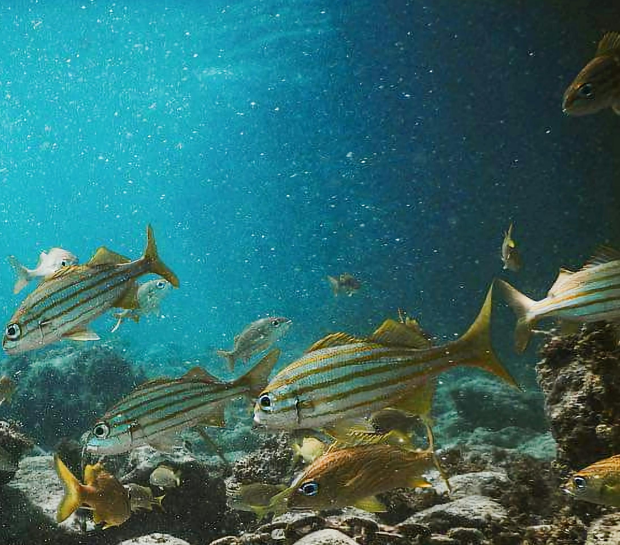fishSmall: (253, 278, 523, 447), (2, 221, 179, 356), (82, 347, 282, 456), (285, 422, 451, 514), (496, 244, 620, 354), (53, 453, 131, 530), (219, 315, 293, 372), (7, 245, 78, 296), (559, 61, 620, 120), (109, 278, 172, 335), (561, 454, 620, 509), (249, 488, 293, 523), (119, 483, 168, 513), (499, 223, 525, 273), (291, 436, 323, 467), (325, 271, 360, 297), (147, 464, 181, 489)
